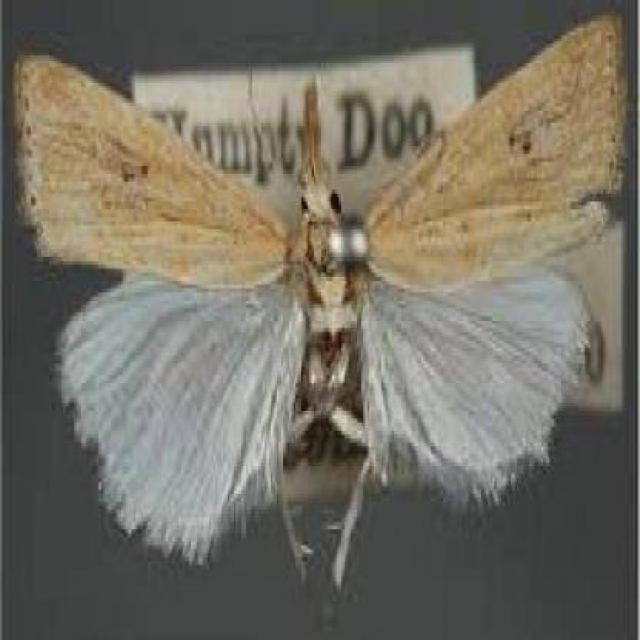stem-borer: (12, 4, 630, 601)
